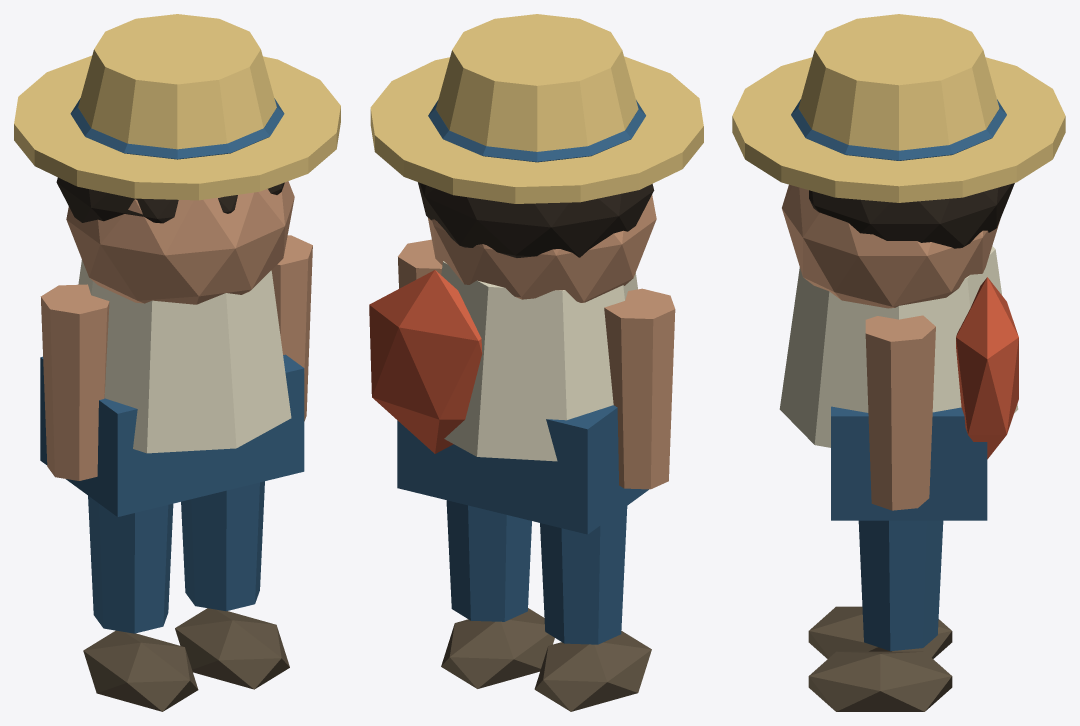
File: protagonist.glb
The picture shows the model from 3 angles, left to right: view 1: azimuth 30°, elevation 25°; view 2: azimuth 150°, elevation 25°; view 3: azimuth 270°, elevation 25°; orthographic projection.
Parts seen in each view (by area): view 1: Torso, HatBrim, HatCrown, Head, Shorts, LeftArm, LeftLeg, RightLeg, LeftShoe, RightShoe, RightArm, Hair (+1 smaller); view 2: HatBrim, HatCrown, Torso, Shorts, Satchel, LeftArm, Hair, Head, LeftLeg, RightLeg, LeftShoe, RightShoe (+2 smaller); view 3: HatBrim, HatCrown, Torso, Head, RightArm, Shorts, RightLeg, Satchel, RightShoe, Hair, LeftShoe, HatBand.
Part boxes in pixels (x1=…): Torso: x1=78, y1=260, x2=291, y2=453; HatBrim: x1=14, y1=55, x2=340, y2=200; HatCrown: x1=78, y1=14, x2=276, y2=149; Head: x1=66, y1=181, x2=294, y2=304; Shorts: x1=40, y1=354, x2=304, y2=516; LeftArm: x1=40, y1=284, x2=109, y2=480; LeftLeg: x1=88, y1=496, x2=173, y2=633; RightLeg: x1=181, y1=481, x2=264, y2=611; LeftShoe: x1=83, y1=630, x2=198, y2=711; RightShoe: x1=175, y1=608, x2=289, y2=689; RightArm: x1=271, y1=235, x2=312, y2=421; Hair: x1=56, y1=177, x2=284, y2=223; HatBrim: x1=370, y1=56, x2=703, y2=203; HatCrown: x1=436, y1=14, x2=638, y2=151; Torso: x1=441, y1=261, x2=637, y2=461; Shorts: x1=397, y1=405, x2=648, y2=534; Satchel: x1=369, y1=270, x2=482, y2=453; LeftArm: x1=604, y1=288, x2=675, y2=489; Hair: x1=418, y1=182, x2=654, y2=257; Head: x1=428, y1=194, x2=656, y2=302; LeftLeg: x1=540, y1=506, x2=627, y2=644; RightLeg: x1=446, y1=500, x2=531, y2=621; LeftShoe: x1=534, y1=631, x2=651, y2=711; RightShoe: x1=441, y1=608, x2=554, y2=688; HatBrim: x1=732, y1=57, x2=1065, y2=202; HatCrown: x1=798, y1=14, x2=999, y2=150; Torso: x1=779, y1=246, x2=1018, y2=447; Head: x1=782, y1=184, x2=1000, y2=308; RightArm: x1=865, y1=315, x2=935, y2=510; Shorts: x1=831, y1=406, x2=987, y2=520; RightLeg: x1=858, y1=520, x2=943, y2=651; Satchel: x1=956, y1=277, x2=1018, y2=459; RightShoe: x1=808, y1=651, x2=952, y2=711; Hair: x1=809, y1=183, x2=1014, y2=248; LeftShoe: x1=808, y1=606, x2=952, y2=658; HatBand: x1=791, y1=99, x2=1006, y2=160.
Bounding box in the file's own units: 0.81 × 1.71 × 0.81.
